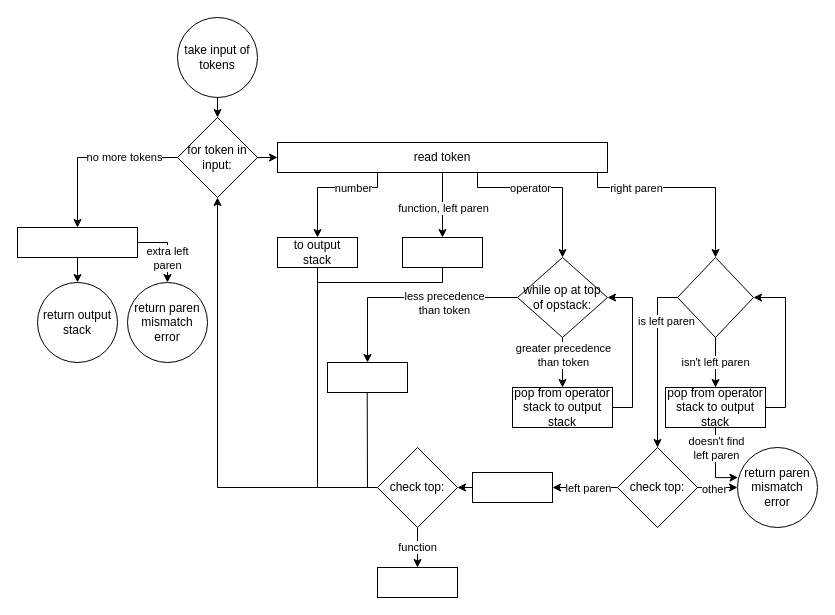
This 835x615 diagram has some shape labels left out. The centre of each missing label's shape, as x and y in pixels:
add token to opstack: the point at 367,377
discard paren: the point at 512,487
pop onto output stack: the point at 417,582
pop remaining ops onto output: the point at 77,242
to operator stack: the point at 442,252
while top of opstack: the point at 715,297
